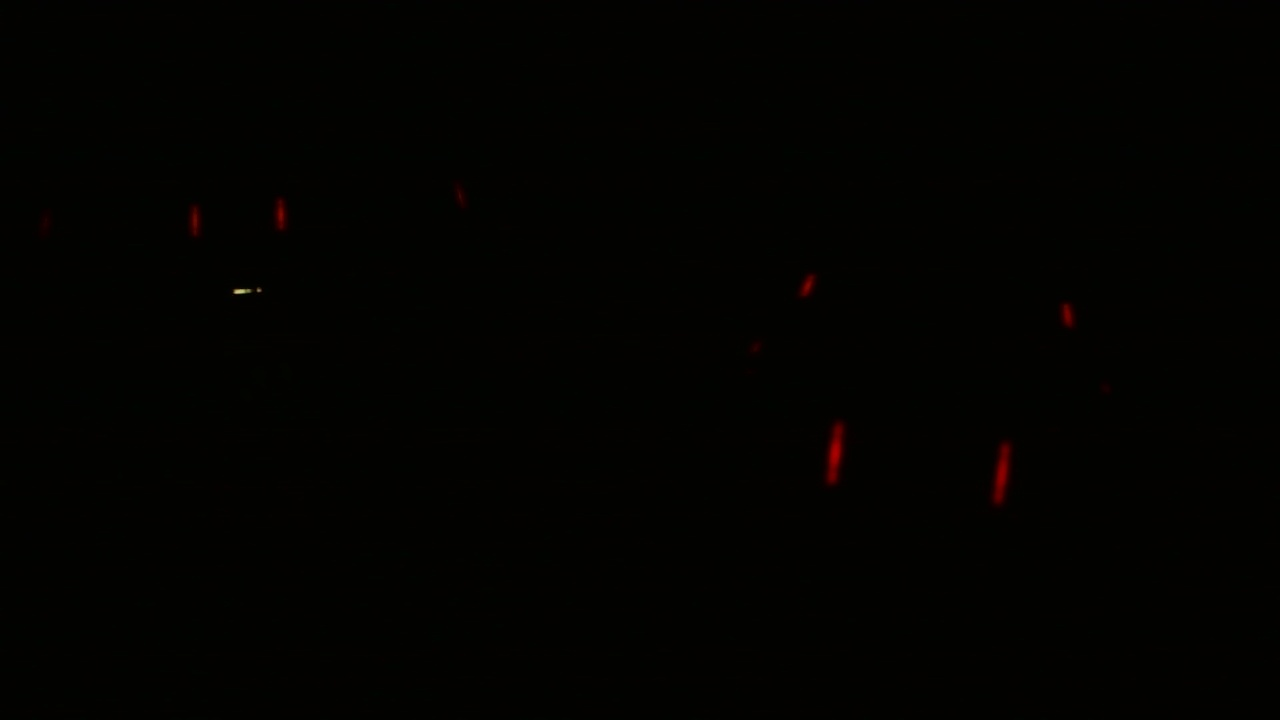pair1: (175, 188, 300, 255)
pair2: (813, 416, 1021, 512)
